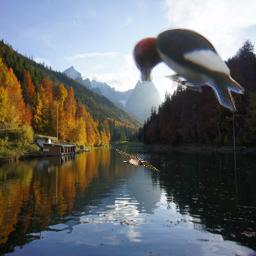Swallow: (114, 148, 160, 172)
Woodpecker: (128, 25, 247, 113)
